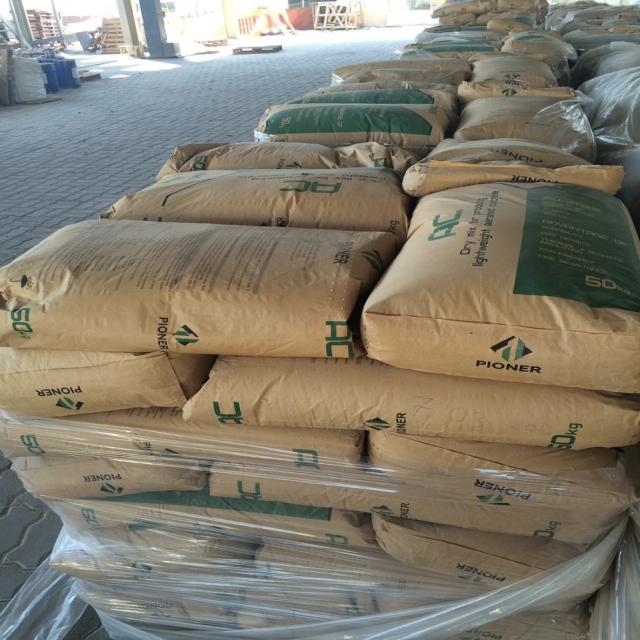KantongSemen: (1, 1, 638, 638), (360, 186, 640, 395), (4, 215, 372, 362), (189, 344, 633, 451), (108, 170, 408, 231), (0, 345, 196, 424), (263, 103, 446, 148)
